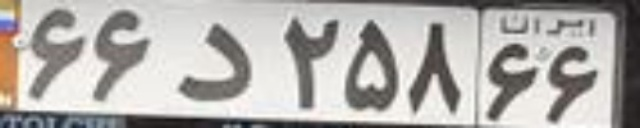2: (280, 19, 342, 109)
5: (344, 18, 404, 109)
6: (92, 8, 153, 99), (26, 6, 83, 99), (480, 41, 540, 118), (546, 43, 596, 121)
8: (409, 20, 465, 112)
dal: (176, 23, 257, 102)
